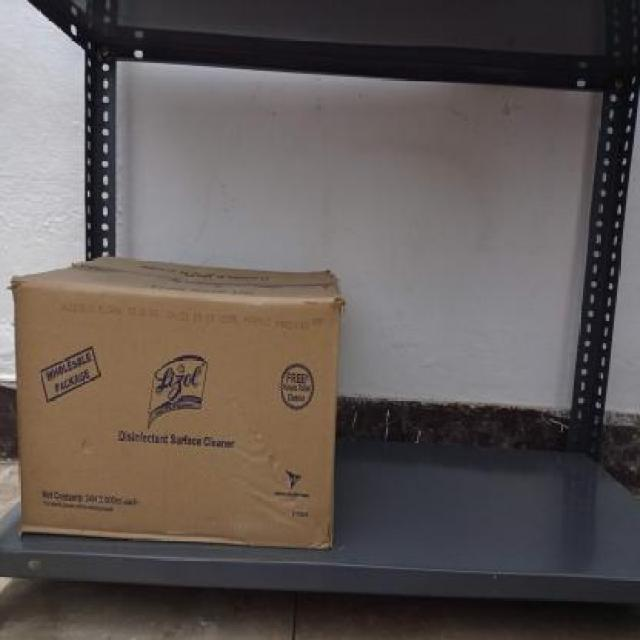box: (11, 274, 337, 550)
